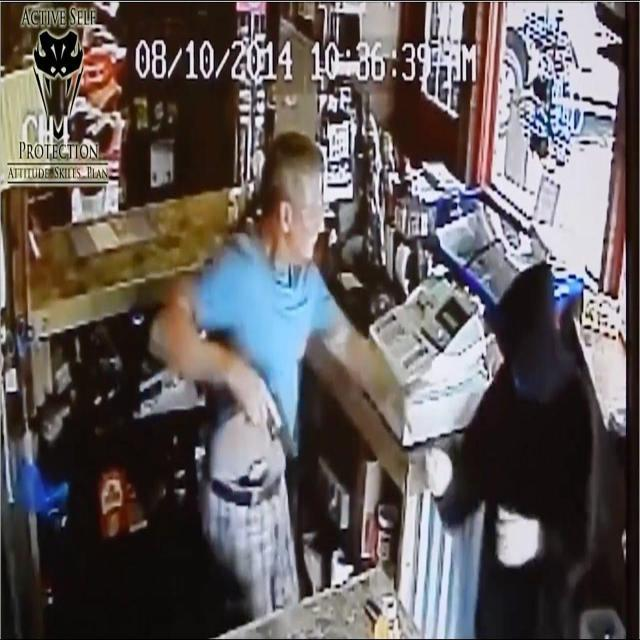gun: (249, 392, 300, 464)
